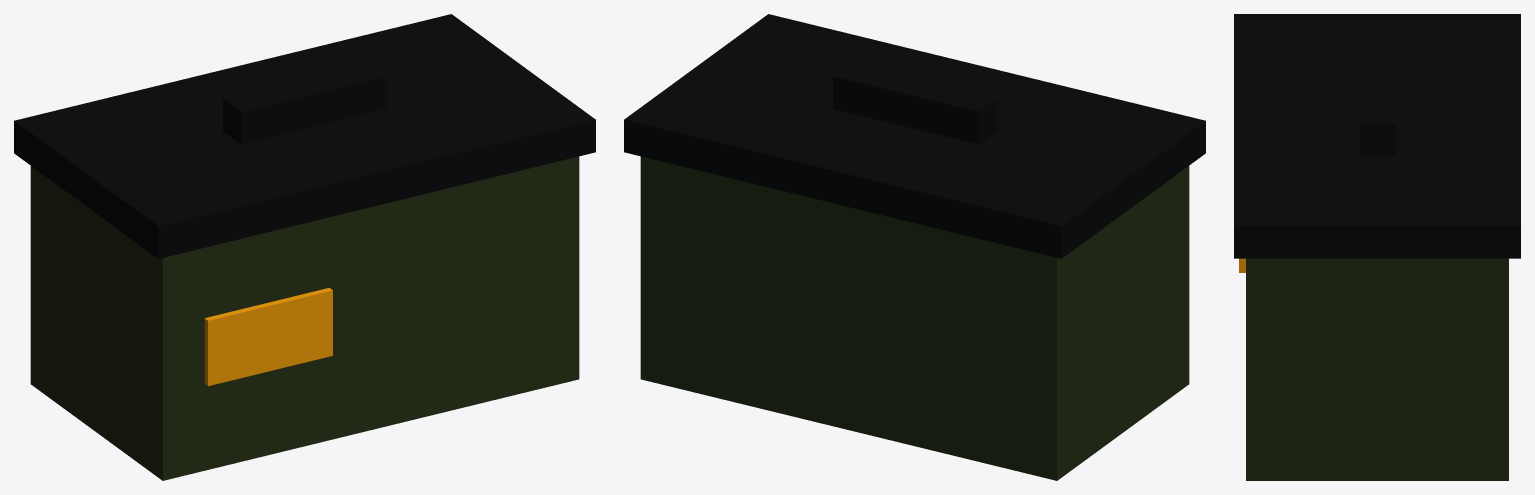
File: ammo_box.obj
The picture shows the model from 3 angles, left to right: view 1: azimuth 30°, elevation 25°; view 2: azimuth 150°, elevation 25°; view 3: azimuth 270°, elevation 25°; orthographic projection.
Visible parts, largest first — view 1: ammo_box; view 2: ammo_box; view 3: ammo_box.
Part boxes in pixels (left/top/right/bottom): ammo_box: left=14, top=14, right=595, bottom=480; ammo_box: left=624, top=14, right=1205, bottom=480; ammo_box: left=1234, top=14, right=1520, bottom=480.
Size of the model in its own units: 0.42 by 0.27 by 0.24.
